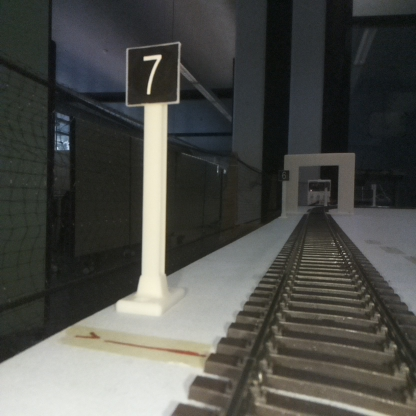black-info-6: (278, 169, 289, 217)
black-info-7: (127, 45, 177, 311)
